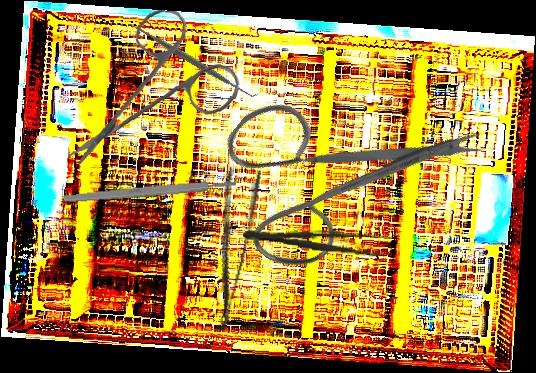Dressing Forceps: (190, 163, 266, 335), (242, 222, 397, 260)
Iris Scissors: (184, 9, 492, 321), (66, 4, 245, 175)
Scalpel Handle: (63, 178, 237, 205)
Spatula Surgical: (125, 15, 260, 106)
